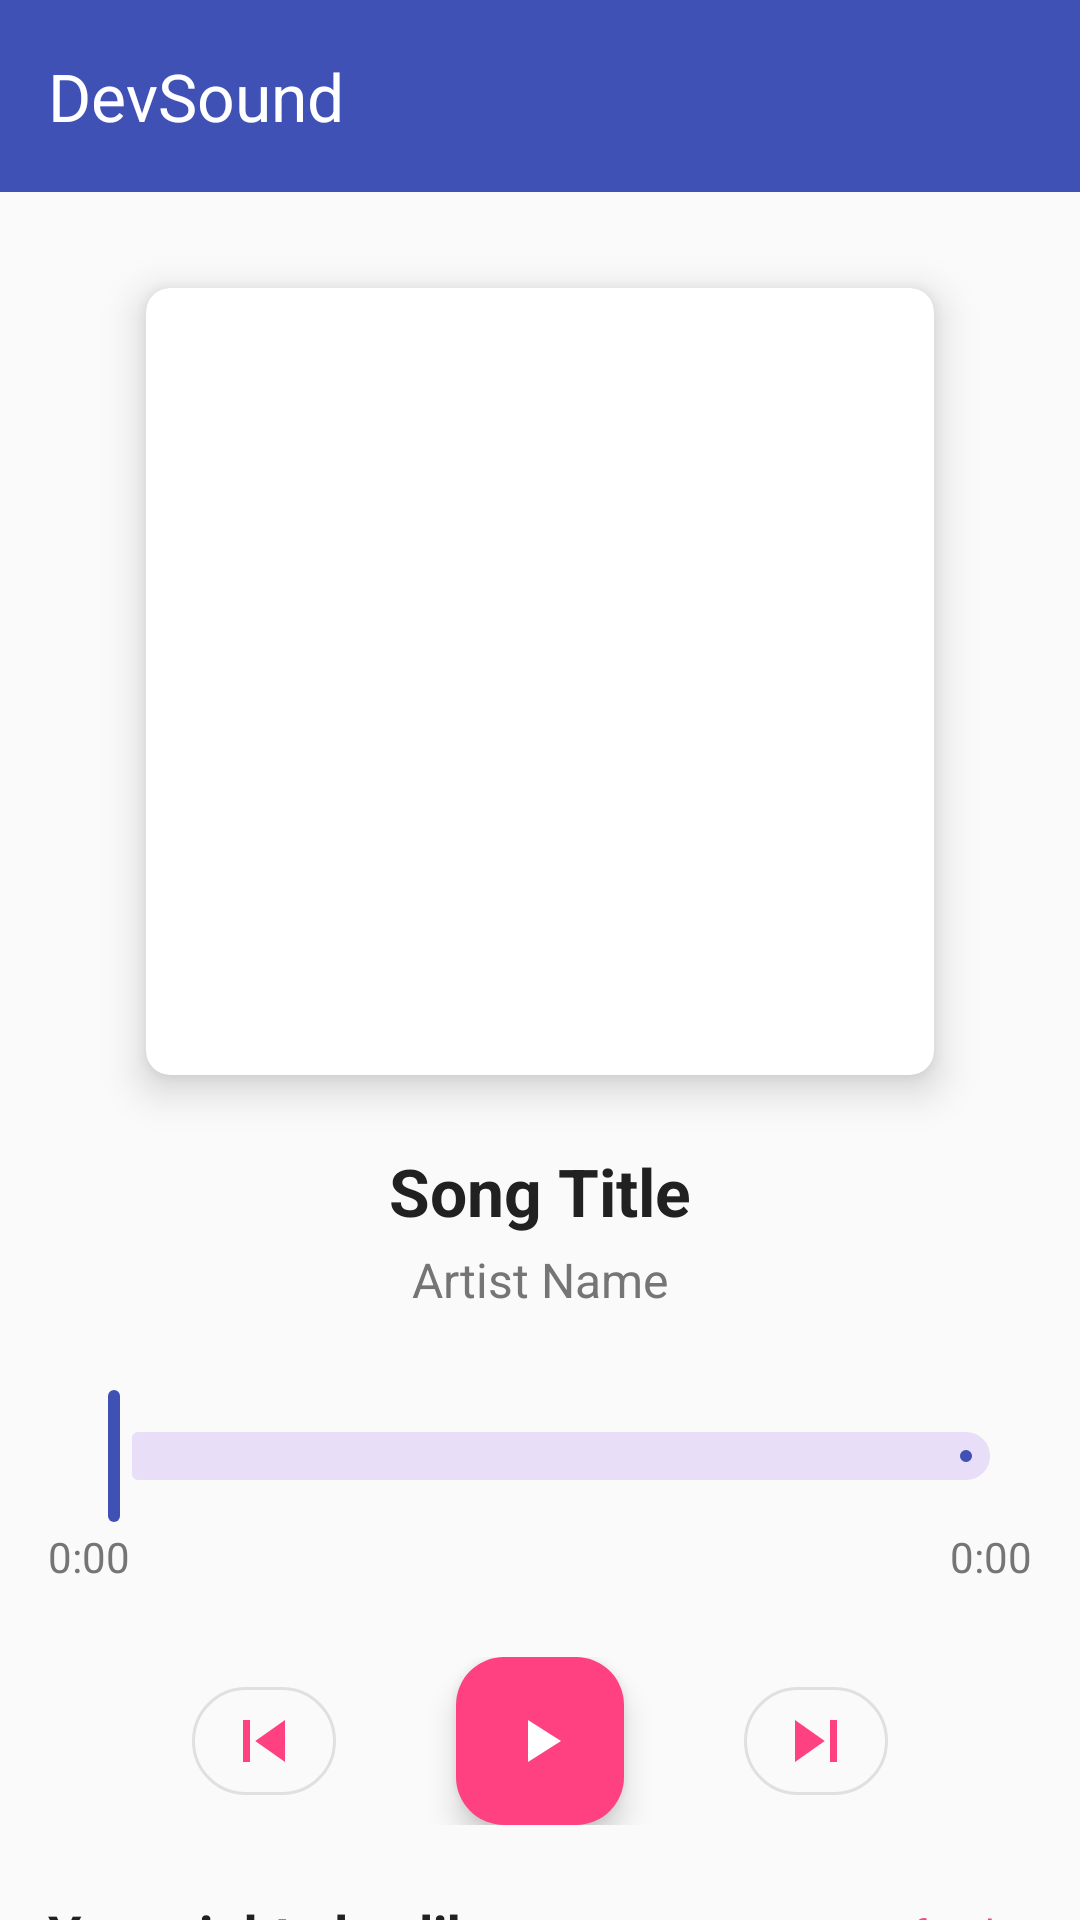

Locate icon controls on the screen. Image size 1080 × 1920, boxes as (x1, y1, x2, y2).
Play or Pause: (456, 1657, 624, 1825)
skip next: (744, 1687, 888, 1795)
skip previous: (192, 1687, 336, 1795)
